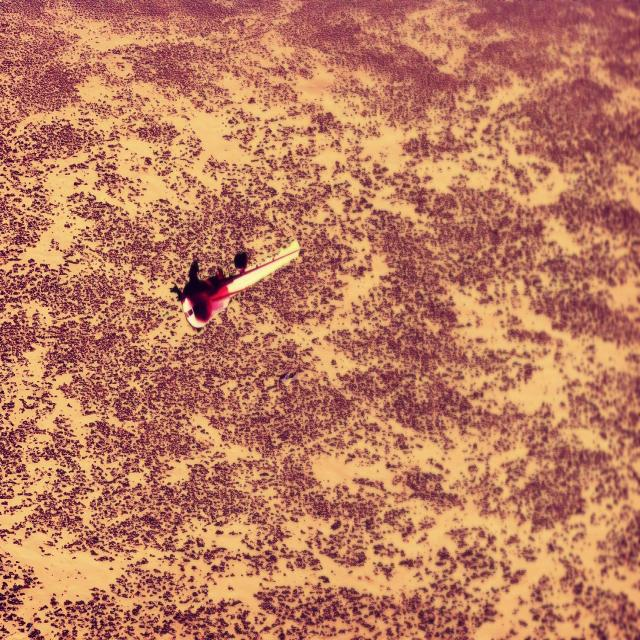airplane: (172, 238, 300, 332)
